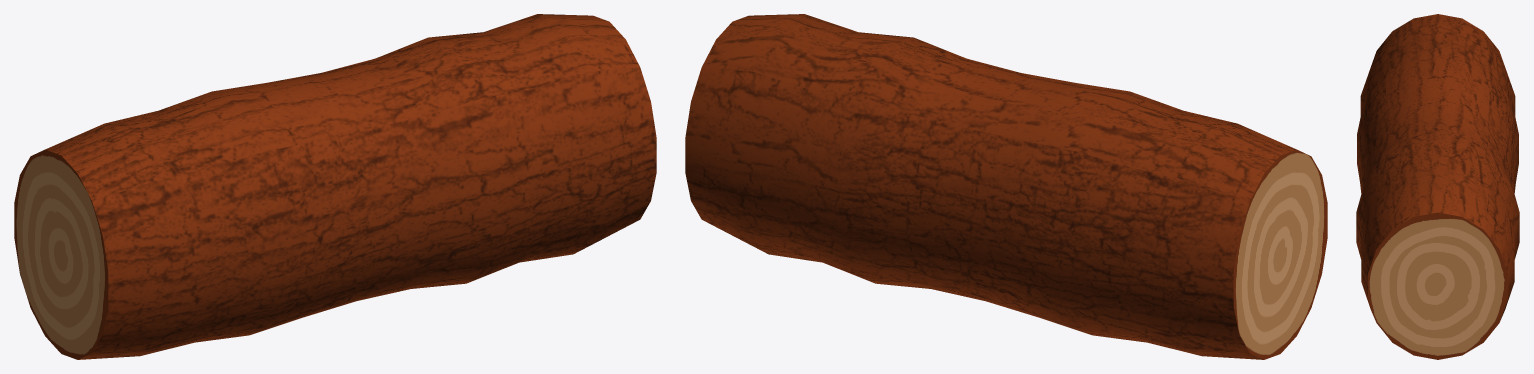
Rendered from Madera.fbx.
The picture shows the model from 3 angles, left to right: view 1: azimuth 30°, elevation 25°; view 2: azimuth 150°, elevation 25°; view 3: azimuth 270°, elevation 25°; orthographic projection. The views are drawn at different scales.
Visible parts, largest first — view 1: Cylinder001; view 2: Cylinder001; view 3: Cylinder001.
Boxes of the visible parts, x1,y1,x2,y2 form: Cylinder001: (14,14,656,359); Cylinder001: (685,14,1327,359); Cylinder001: (1356,14,1519,359).
Bounding box in the file's own units: 0.4098 × 0.1658 × 0.1425.
Materials: 1 (1 with a texture image).
